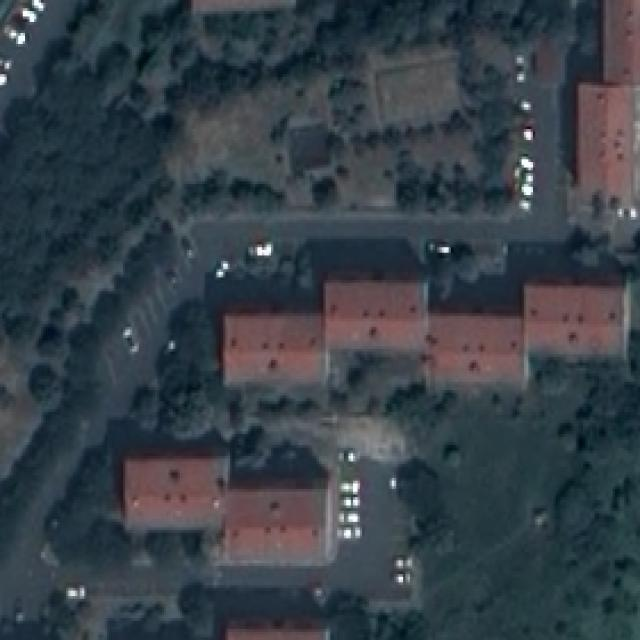Batiment: (575, 0, 640, 219), (226, 443, 335, 565), (124, 455, 228, 531), (324, 282, 428, 352), (524, 286, 625, 357), (224, 312, 322, 384), (430, 314, 522, 384), (208, 589, 325, 639)
